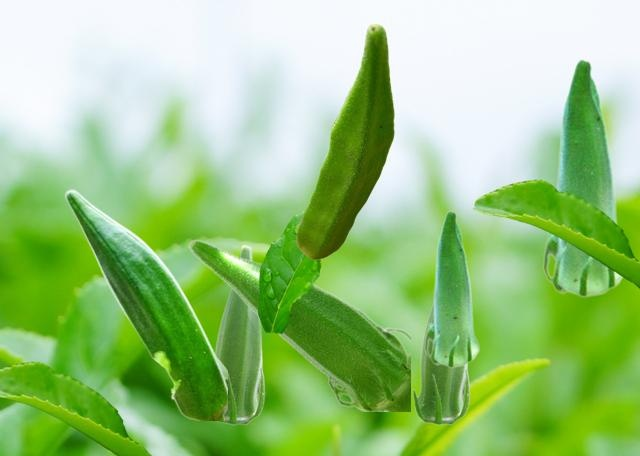okra: (188, 239, 409, 410), (64, 189, 226, 419), (296, 23, 393, 258), (542, 58, 624, 297), (215, 244, 264, 424), (424, 210, 479, 367), (412, 303, 469, 424)
